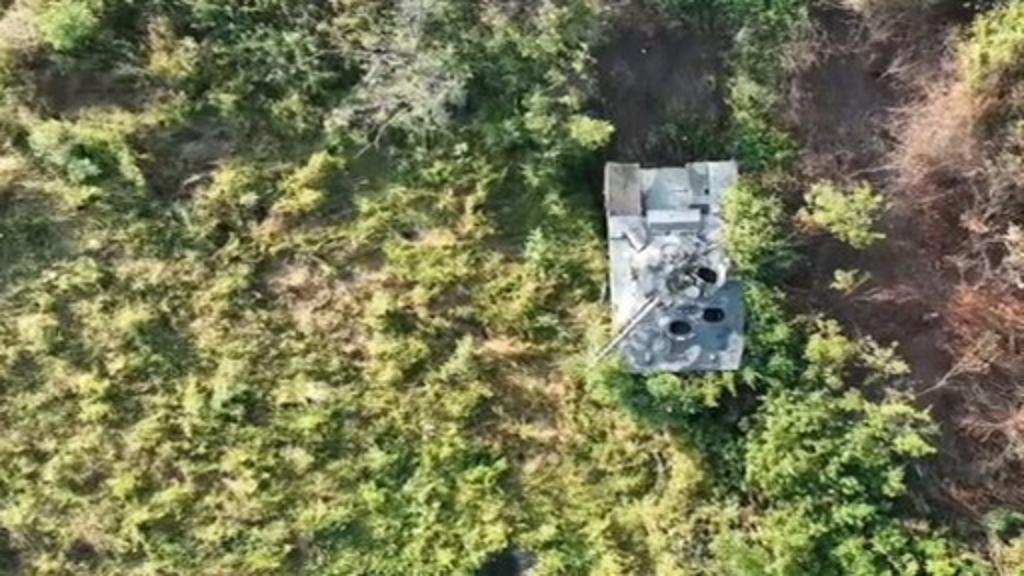APC-IFV: (576, 148, 752, 388)
